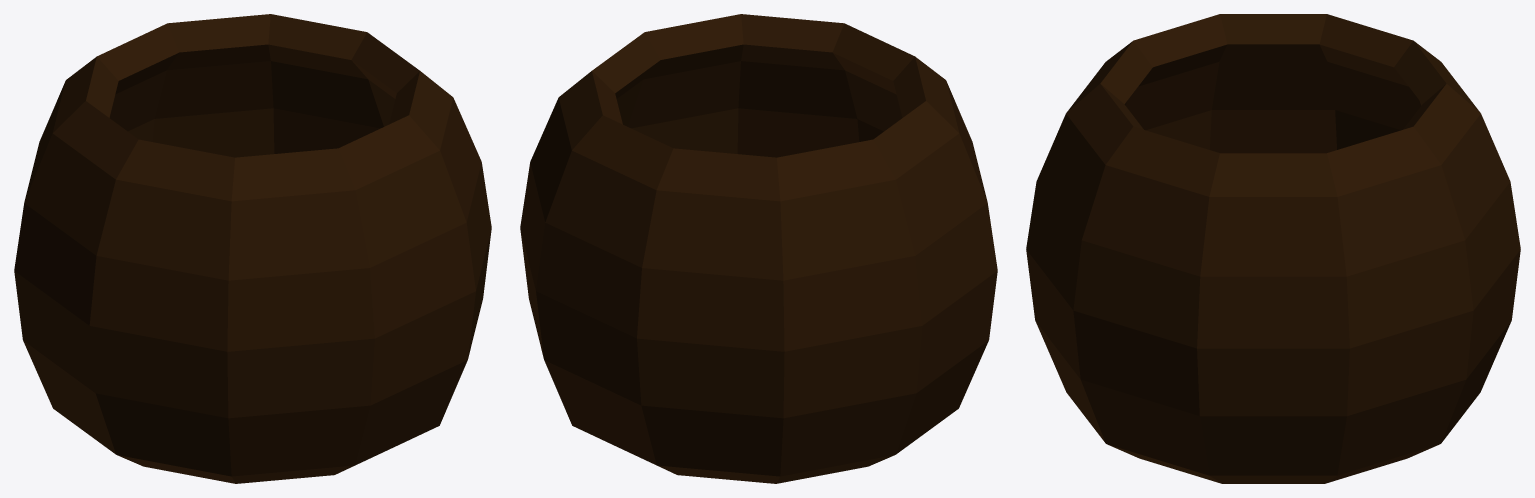
Rendered from Teacup_(Outlined)v003.fbx.
The picture shows the model from 3 angles, left to right: view 1: azimuth 30°, elevation 25°; view 2: azimuth 150°, elevation 25°; view 3: azimuth 270°, elevation 25°; orthographic projection.
Parts seen in each view (by area): view 1: teacup; view 2: teacup; view 3: teacup.
Part boxes in pixels (x1,y1,x2,y2): teacup: [14, 14, 491, 483]; teacup: [520, 14, 997, 483]; teacup: [1026, 14, 1520, 483].
Size of the model in its own units: 1.13 by 0.895 by 1.18.
